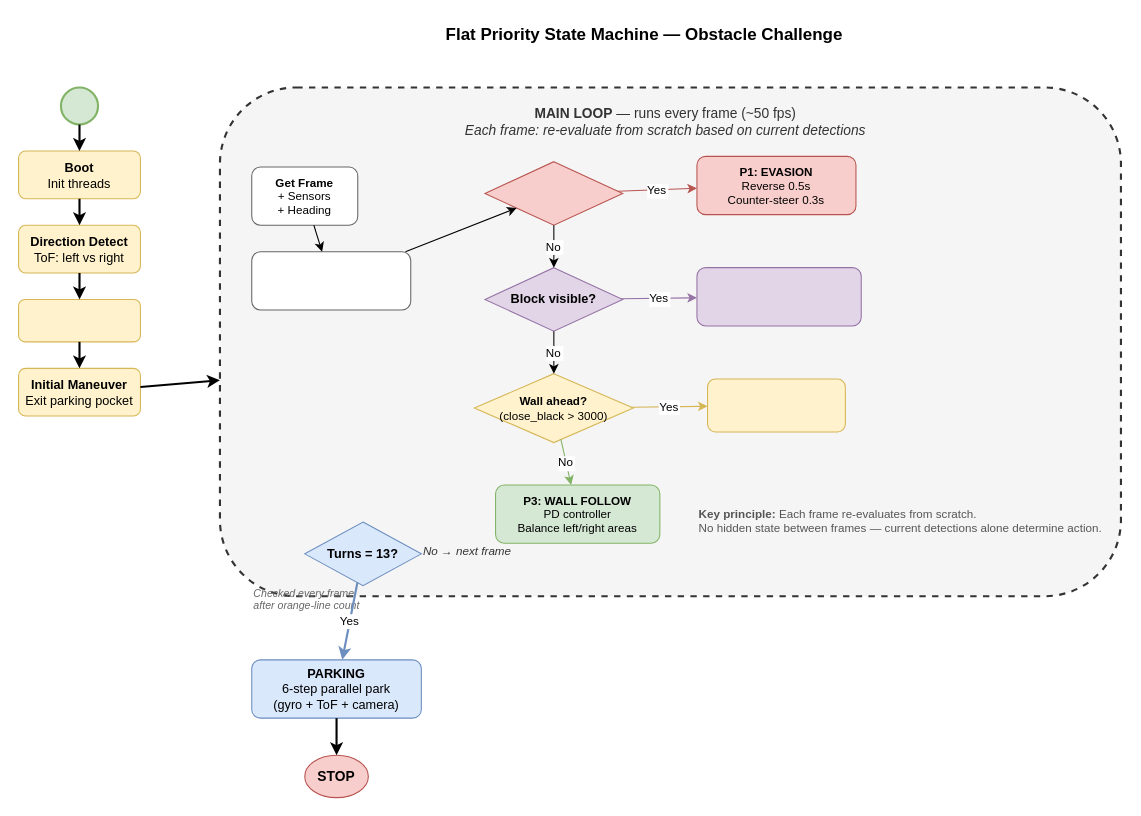
This 1141x816 diagram has some shape labels left out. Here are the shapes that lost their labels. From the top down, the centre of each, then its label:
point (553, 193): Close block?
point (331, 280): Process Frame HSV → masks → contours → detected blocks, walls
point (778, 296): P2: TARGET-LINE Angle geometry steering + speed reduction
point (78, 320): Lock INITIAL_HEADING
point (775, 405): CORNER TURN Force +/-35 deg
